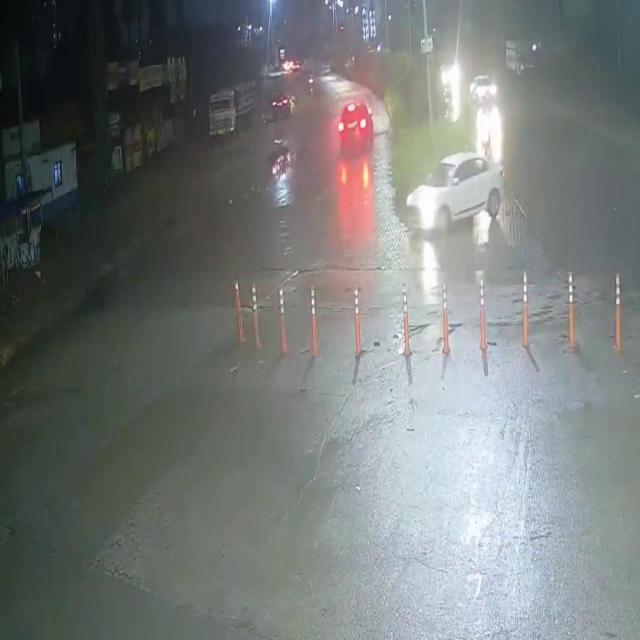accident: (267, 134, 298, 186)
